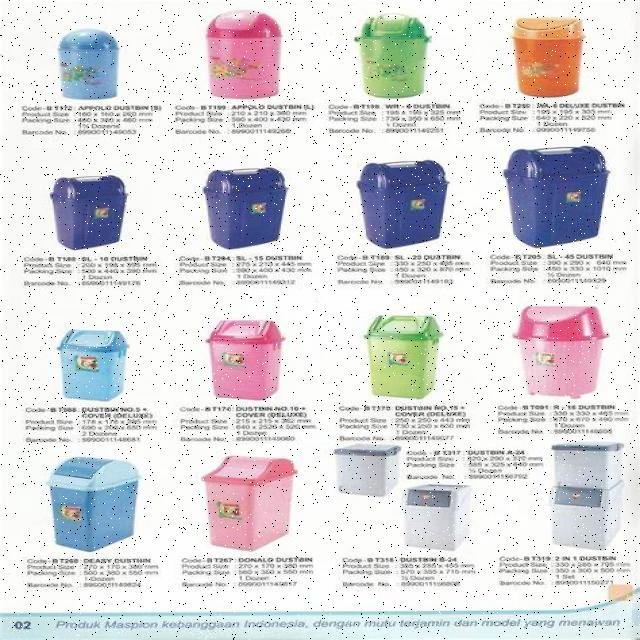garbage container: (28, 449, 184, 556), (20, 308, 172, 402), (492, 140, 624, 248), (31, 147, 160, 256), (190, 2, 328, 102), (195, 145, 314, 257), (192, 450, 318, 554), (495, 5, 627, 104), (503, 296, 629, 399), (14, 18, 162, 103), (344, 156, 474, 252), (190, 314, 328, 404), (344, 6, 474, 101), (350, 308, 478, 402), (408, 485, 478, 556), (333, 443, 409, 503), (552, 496, 626, 552), (552, 440, 629, 492)
